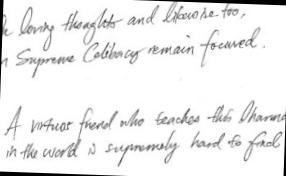text: (0, 15, 266, 88), (0, 89, 286, 152), (4, 120, 283, 173), (1, 0, 247, 57)
